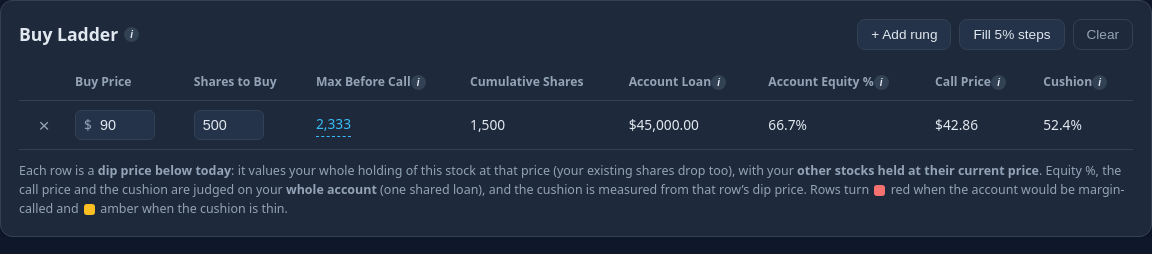
Test: LadderTable inputs — leading-zero / empty-field bug › backspacing all the way leaves the field blank (treated as 0 by the math)
Clear the field named "Shares to buy" at [229, 125], box [195,111,263,139]
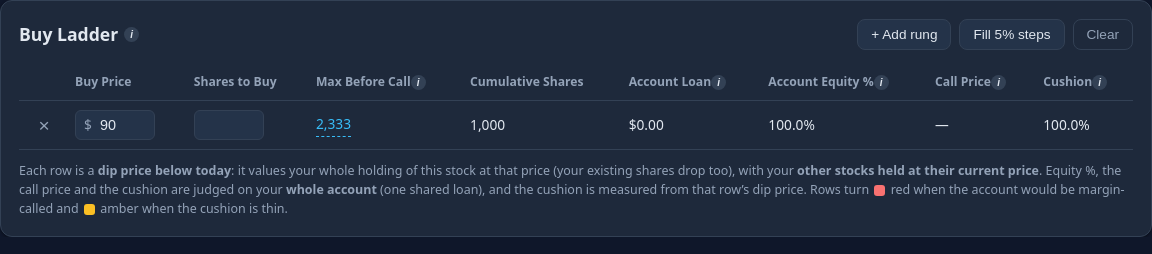
expect the text "1,000" is shown: met, box [460,101,619,150]
